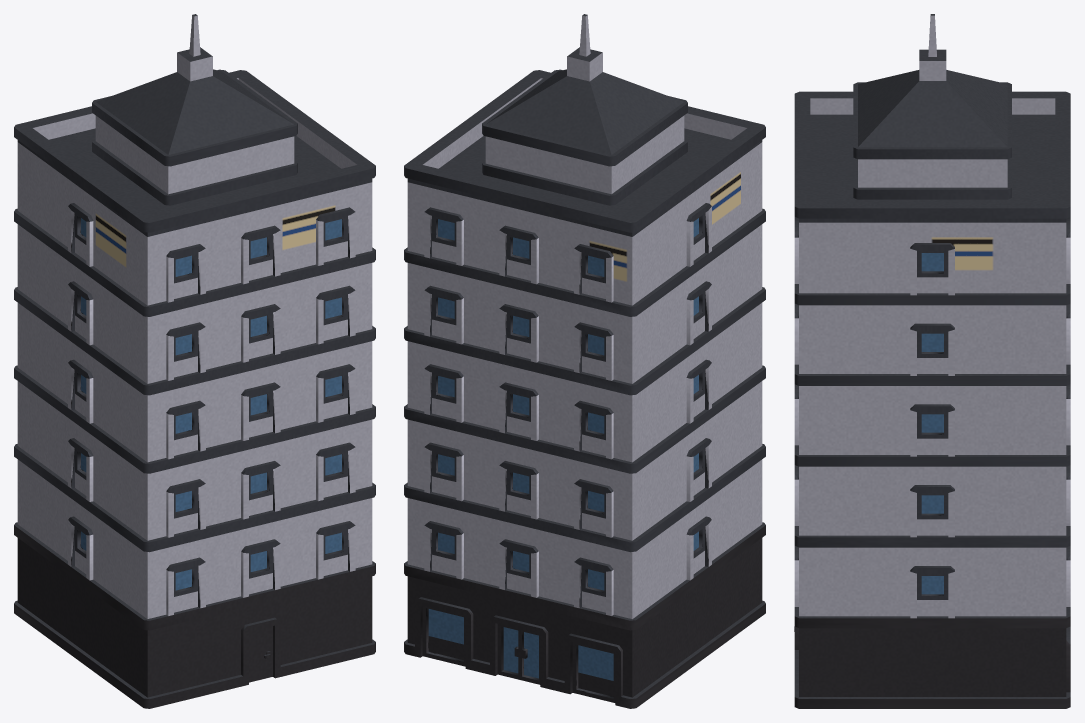
Rendered from building-m-white.glb.
The picture shows the model from 3 angles, left to right: view 1: azimuth 30°, elevation 25°; view 2: azimuth 150°, elevation 25°; view 3: azimuth 270°, elevation 25°; orthographic projection. The views are drawn at different scales.
Visible parts, largest first — view 1: building-m-white; view 2: building-m-white; view 3: building-m-white.
Boxes of the visible parts, bbox=[...] form: building-m-white: bbox=[14, 14, 375, 708]; building-m-white: bbox=[404, 14, 765, 708]; building-m-white: bbox=[794, 14, 1070, 708].
Bounding box in the file's own units: 1.24 × 3.15 × 1.24.
Materials: 1 (1 with a texture image).
